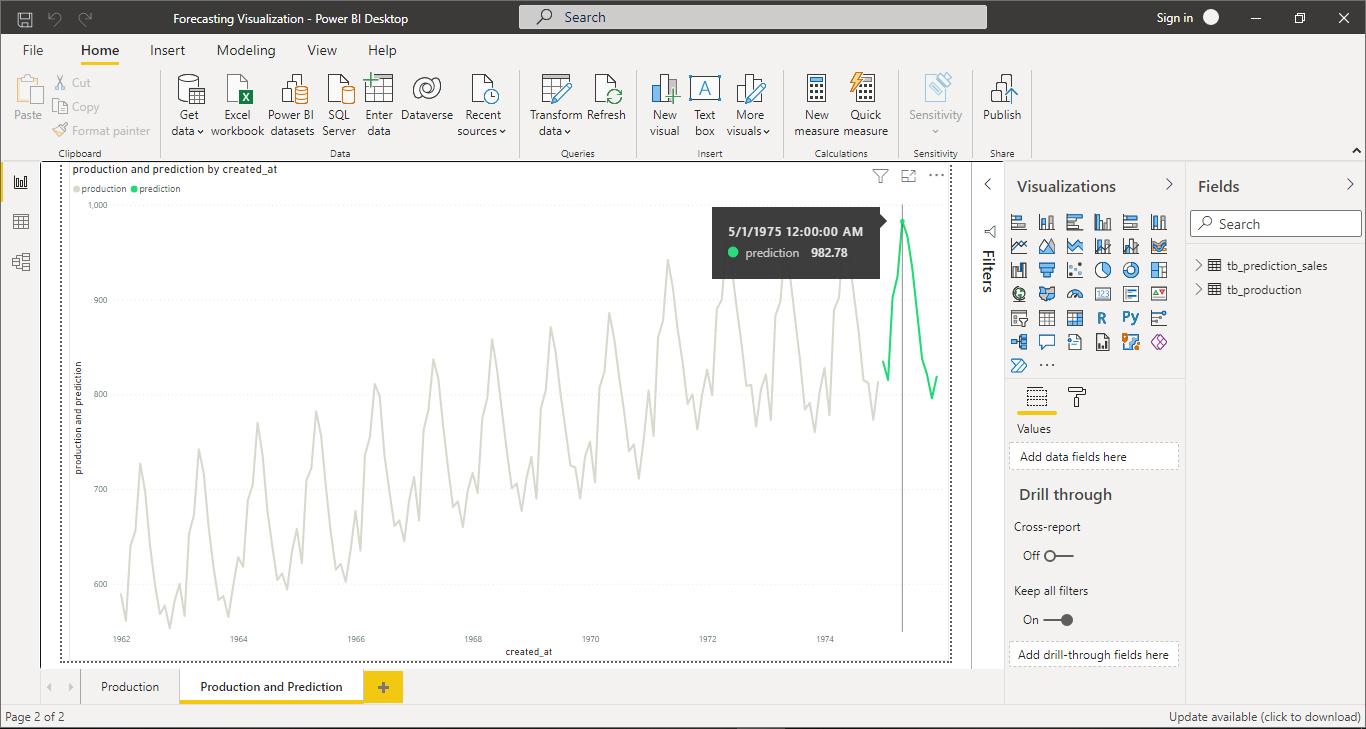

This screenshot's page, from the dashboard's own definition file:
{"tool":"powerbi","page":{"name":"Production and Prediction","canvas":[1280,720],"ordinal":1},"visuals":[{"type":"lineChart","fields":{"Category":["tb_prediction_sales.created_at Hierarchy.created_at"],"Y":["Sum(tb_prediction_sales.production)","Sum(tb_prediction_sales.prediction)"]},"box":[10.1,0,1269.7,720],"z":0}]}

Visuals, with their boxes on the page's 1280x720 design canvas (x1, y1, x2, y2). These are canvas units, not pixel positions in the 1366x729 screenshot, which may show the page scaled, cropped or inside an application window:
lineChart - tb_prediction_sales.created_at Hierarchy.created_at x Sum(tb_prediction_sales.production): select_region(10, 0, 1280, 720)
